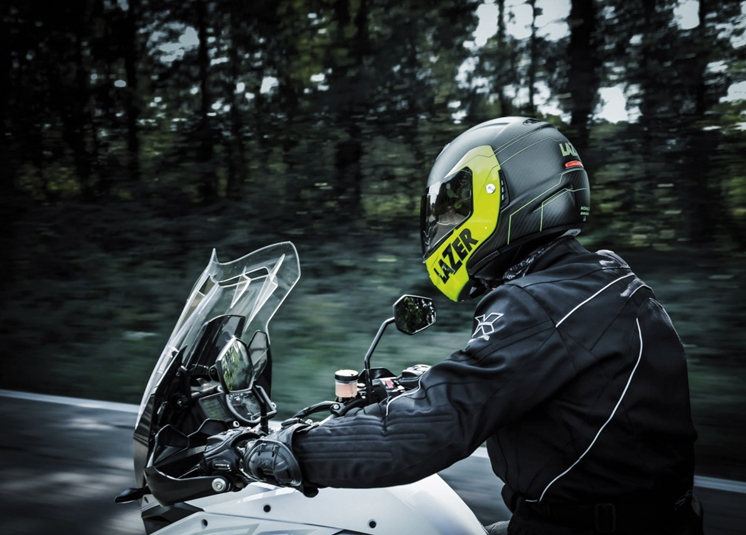helmet: (401, 106, 600, 271)
